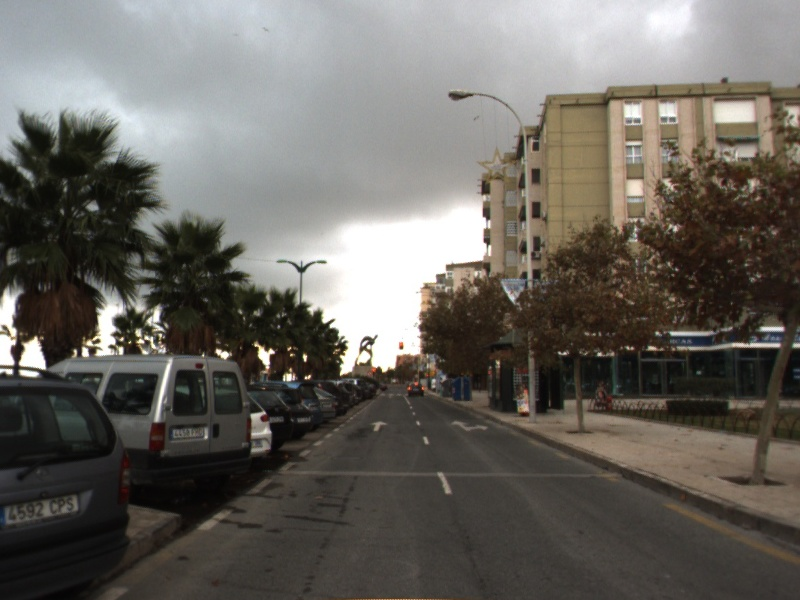STRAIGHT: (368, 419, 390, 433)
STRAIGHT_RIGHT: (448, 418, 490, 434)
